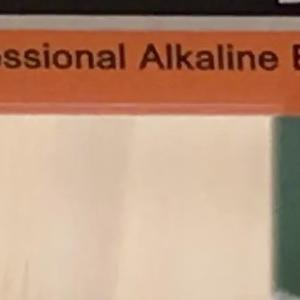ALK: (130, 33, 196, 79)
